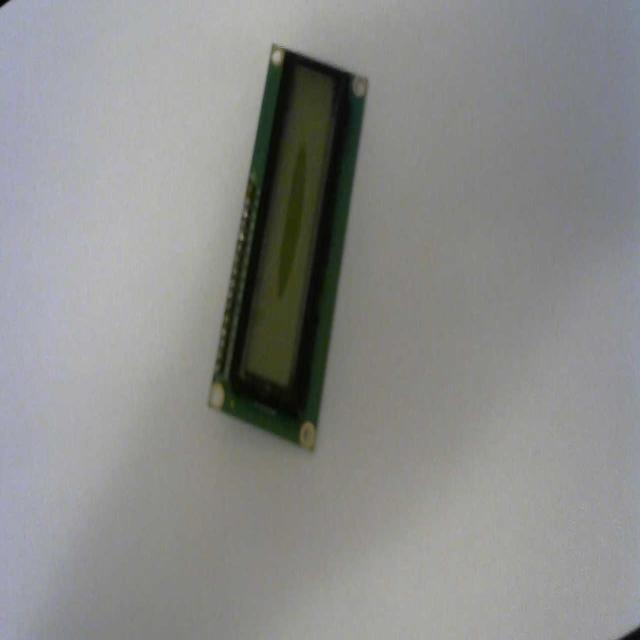lcd: (206, 41, 369, 452)
